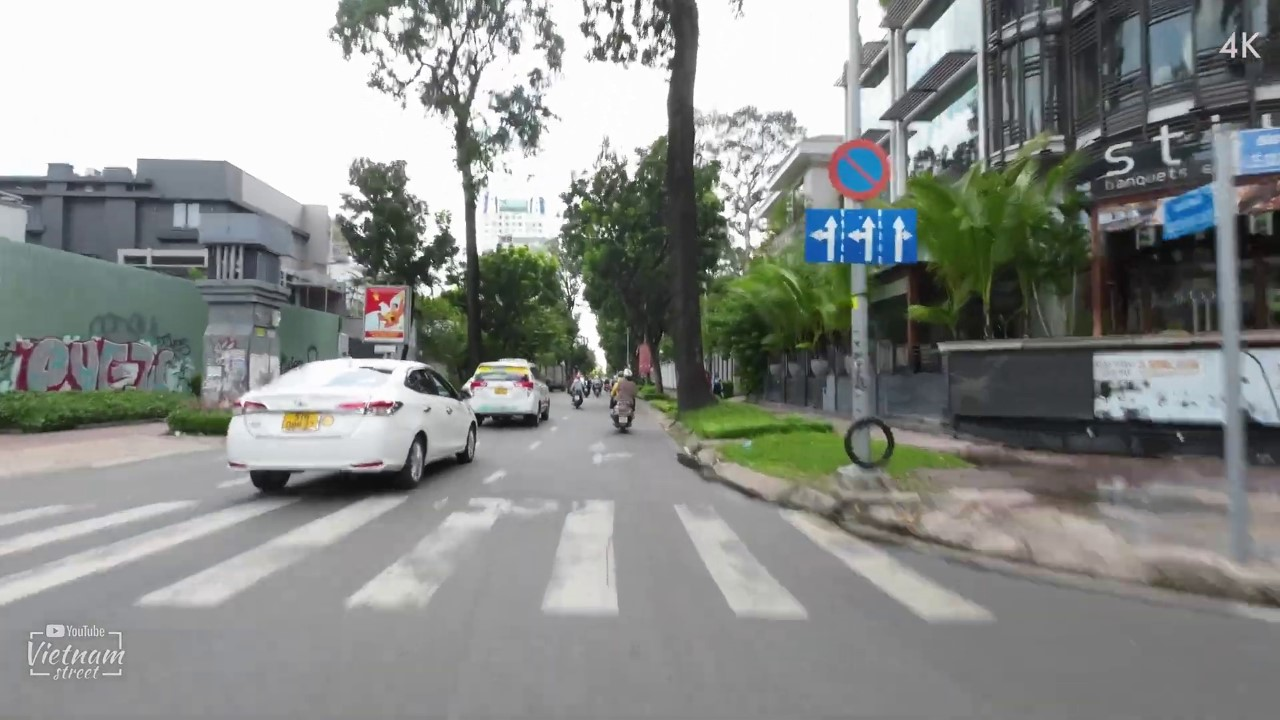cam_do_xe: (828, 137, 890, 201)
